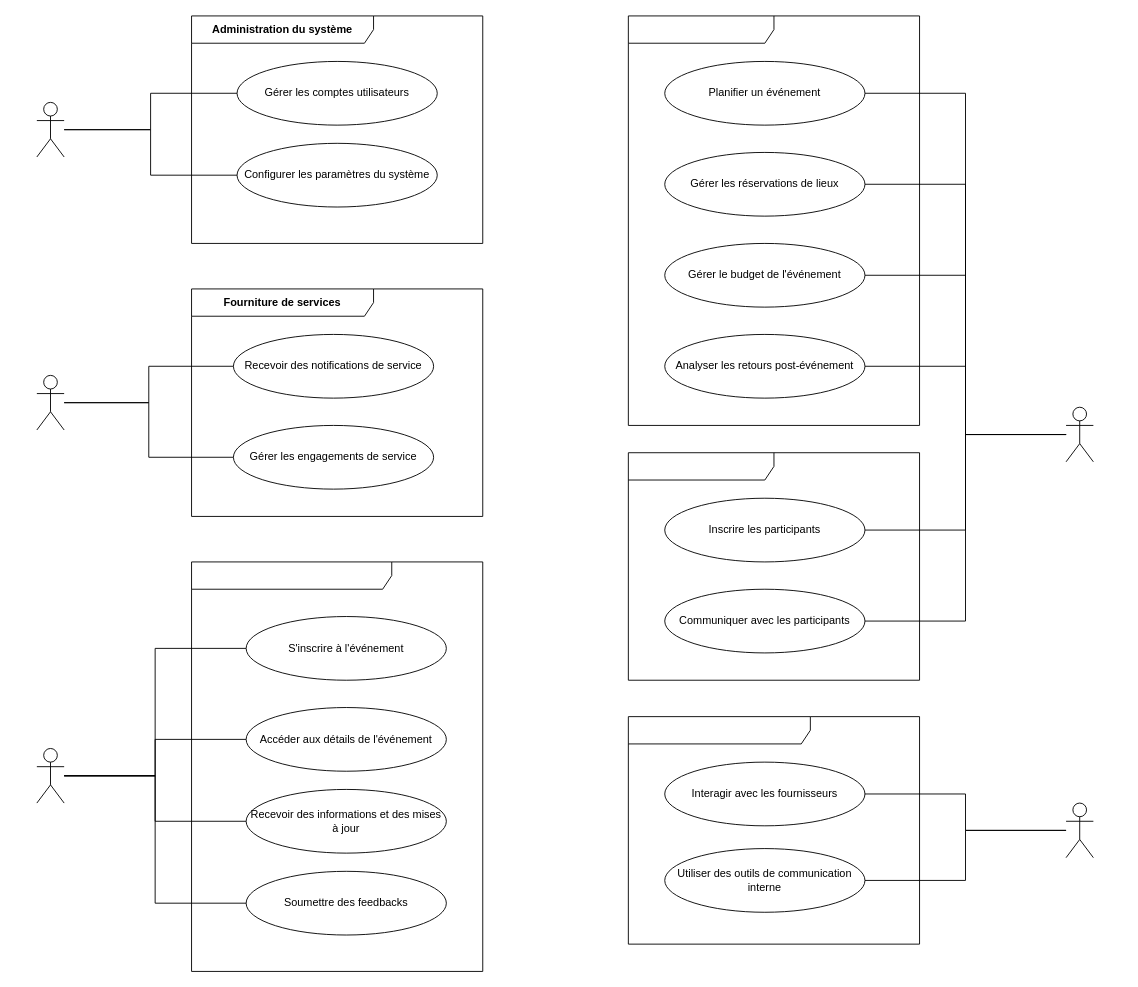
The diagram is 1138 pixels wide and 987 high, and some of its shapes have lost their labels. The shapes that lost their labels are listed below. From the top down, each one's box as (x1, y1, x2, y2) in pixels, then its label:
(36, 101, 64, 157): Administrateur (interne)
(627, 15, 920, 425): Gestion de l'événement
(36, 374, 64, 430): Fournisseur (externe)
(1065, 406, 1093, 462): Entreprise cliente (interne)
(627, 452, 920, 680): Gestion des participants
(36, 748, 64, 803): Participant (externe)
(191, 561, 483, 971): Participation aux événements
(627, 716, 920, 944): Collaboration et communication
(1065, 802, 1093, 858): Organisateur (interne)
